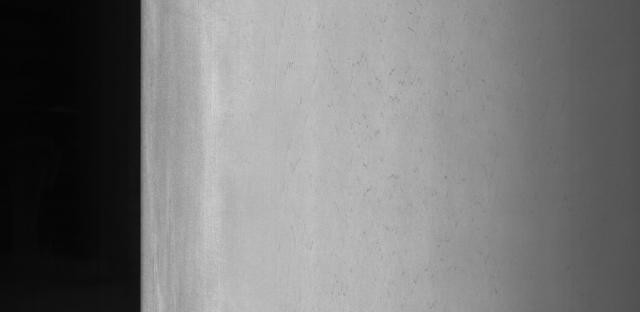silk_spot: (333, 36, 475, 278)
